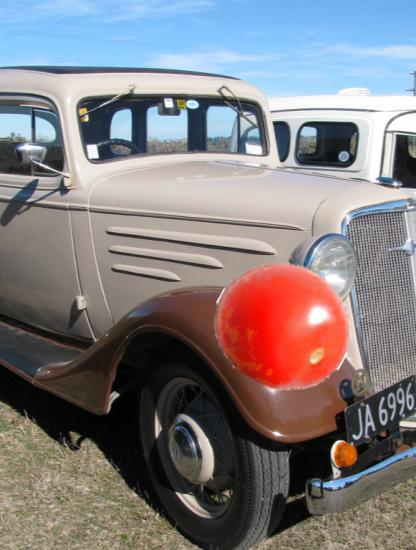Tomato: (213, 256, 353, 396)
